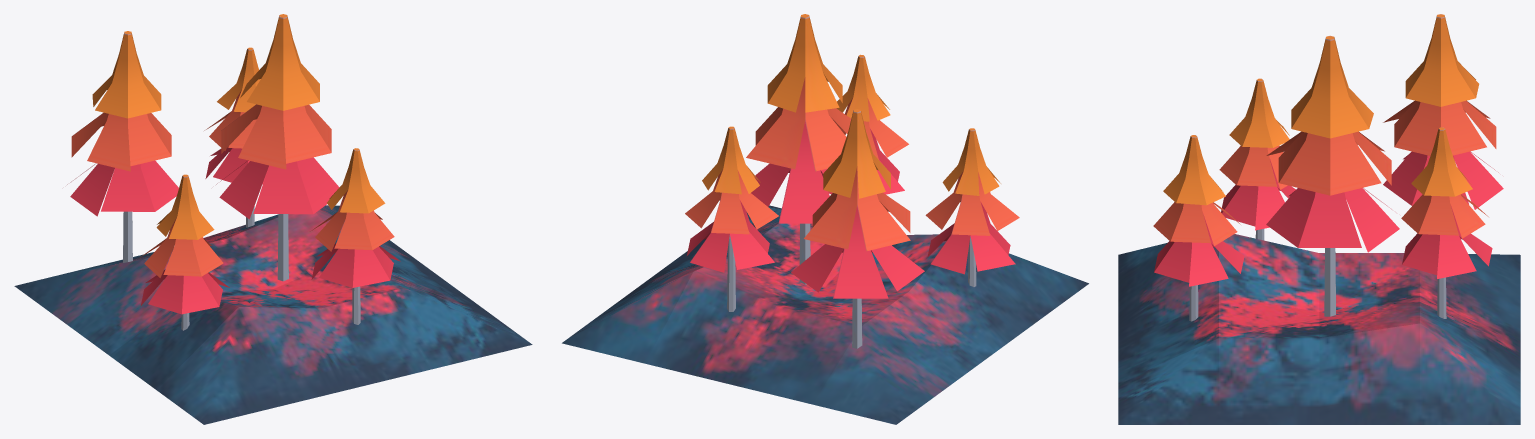
Rendered from tree01.FBX.
3 renders of one model, left to right at view 1: azimuth 30°, elevation 25°; view 2: azimuth 150°, elevation 25°; view 3: azimuth 270°, elevation 25°, orthographic. The views are drawn at different scales.
Visible parts, largest first — view 1: Tree01; view 2: Tree01; view 3: Tree01.
Boxes of the visible parts, <box> form: Tree01: <box>14,14,532,424</box>; Tree01: <box>562,14,1088,424</box>; Tree01: <box>1118,14,1520,424</box>.
Size of the model in its own units: 1 by 1 by 0.8492.
1 material, 1 textured.
